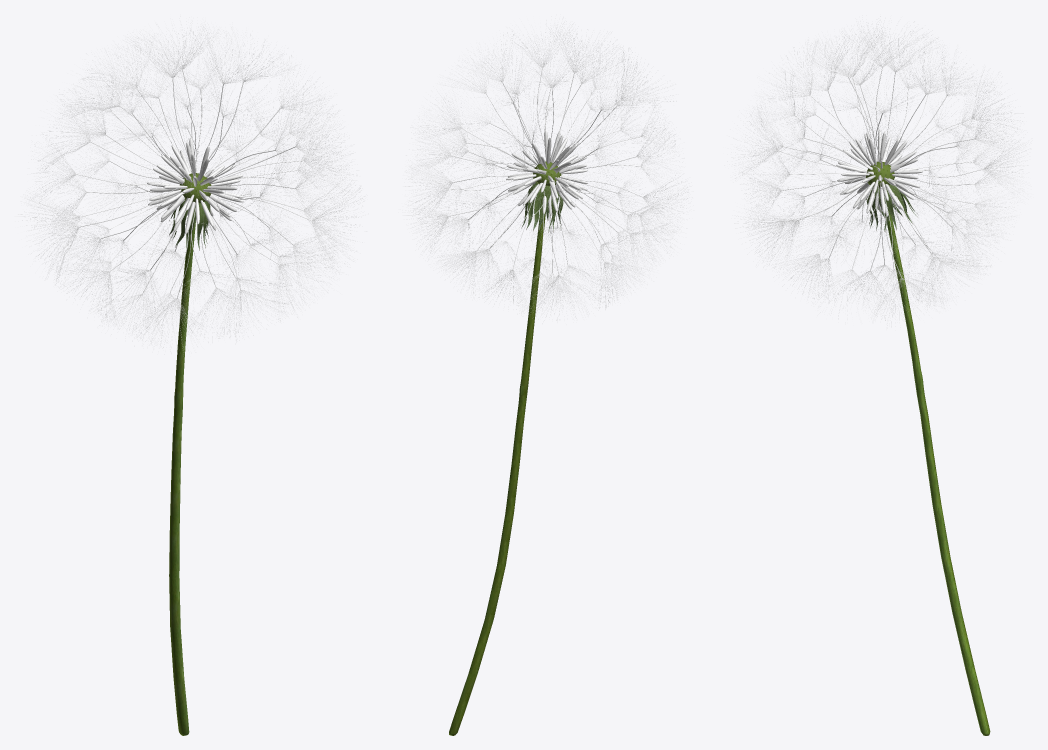
Rendered from dandelion.glb.
3 renders of one model, left to right at view 1: azimuth 30°, elevation 25°; view 2: azimuth 150°, elevation 25°; view 3: azimuth 270°, elevation 25°, orthographic. The views are drawn at different scales.
Parts seen in each view (by area): view 1: Dandelion, Leaves.007, Dandelion.009, Dandelion__curved_seed_stems; view 2: Dandelion, Leaves.007, Dandelion__curved_seed_stems, Dandelion.009; view 3: Dandelion, Leaves.007, Dandelion__curved_seed_stems, Dandelion.009.
Boxes of the visible parts, x1,y1,x2,y2 form: Dandelion: (15, 15, 366, 354); Leaves.007: (169, 173, 211, 735); Dandelion.009: (147, 137, 243, 234); Dandelion__curved_seed_stems: (75, 69, 311, 298); Dandelion: (398, 16, 687, 320); Leaves.007: (449, 161, 563, 735); Dandelion__curved_seed_stems: (448, 68, 643, 275); Dandelion.009: (506, 130, 587, 215); Dandelion: (727, 20, 1027, 326); Leaves.007: (866, 161, 990, 735); Dandelion__curved_seed_stems: (778, 67, 983, 277); Dandelion.009: (836, 129, 922, 216).
Size of the model in its own units: 2.94 by 7.1 by 2.92.
Materials: 8 (3 with a texture image).
